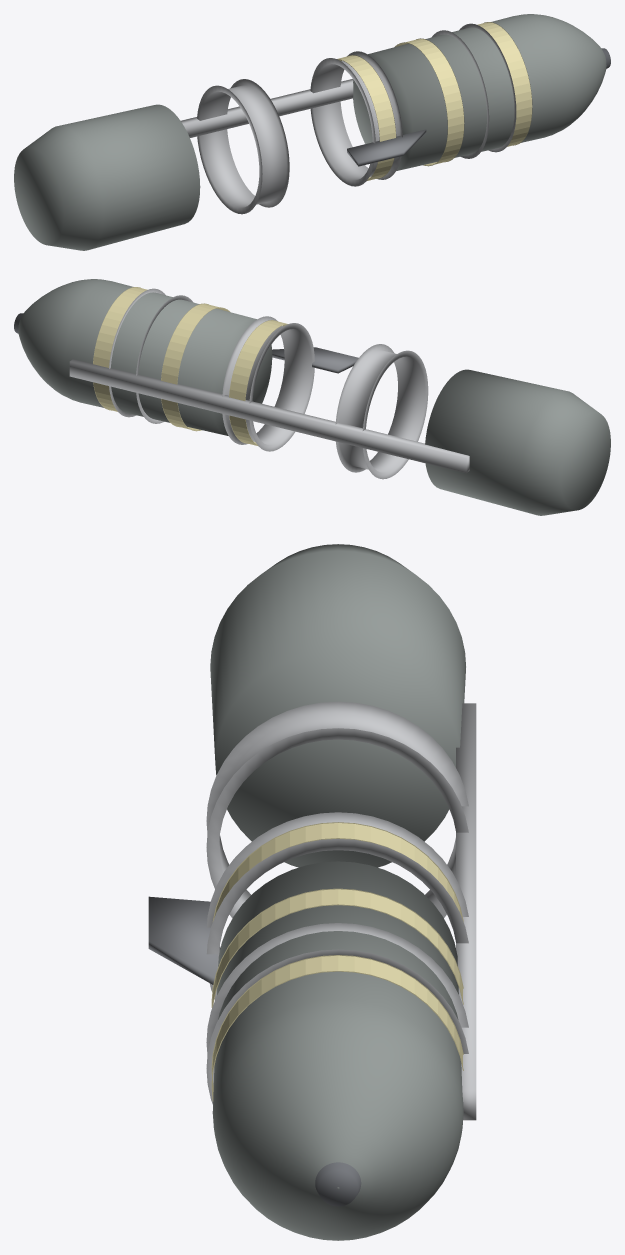
File: FR_SLBM_M51_LOD0.fbx
The picture shows the model from 3 angles, top to bottom: view 1: azimuth 30°, elevation 25°; view 2: azimuth 150°, elevation 25°; view 3: azimuth 270°, elevation 25°; orthographic projection. The views are drawn at different scales.
Parts seen in each view (by area): view 1: WPN_FR_SLBM_M51_LOD0_Tail, WPN_FR_SLBM_M51_LOD0_Body, WPN_FR_SLBM_M51_LOD0_Detail, WPN_FR_SLBM_M51_LOD0_Marking; view 2: WPN_FR_SLBM_M51_LOD0_Detail, WPN_FR_SLBM_M51_LOD0_Tail, WPN_FR_SLBM_M51_LOD0_Body, WPN_FR_SLBM_M51_LOD0_Marking; view 3: WPN_FR_SLBM_M51_LOD0_Body, WPN_FR_SLBM_M51_LOD0_Tail, WPN_FR_SLBM_M51_LOD0_Detail, WPN_FR_SLBM_M51_LOD0_Marking, WPN_FR_SLBM_M51_LOD0_Nose.
Boxes of the visible parts, x1=… form: WPN_FR_SLBM_M51_LOD0_Tail: x1=14, y1=104, x2=200, y2=250; WPN_FR_SLBM_M51_LOD0_Body: x1=353, y1=14, x2=606, y2=170; WPN_FR_SLBM_M51_LOD0_Detail: x1=181, y1=23, x2=516, y2=214; WPN_FR_SLBM_M51_LOD0_Marking: x1=337, y1=22, x2=532, y2=180; WPN_FR_SLBM_M51_LOD0_Detail: x1=69, y1=288, x2=469, y2=479; WPN_FR_SLBM_M51_LOD0_Tail: x1=425, y1=369, x2=610, y2=515; WPN_FR_SLBM_M51_LOD0_Body: x1=18, y1=279, x2=272, y2=435; WPN_FR_SLBM_M51_LOD0_Marking: x1=93, y1=287, x2=287, y2=445; WPN_FR_SLBM_M51_LOD0_Body: x1=212, y1=861, x2=463, y2=1240; WPN_FR_SLBM_M51_LOD0_Tail: x1=210, y1=544, x2=465, y2=867; WPN_FR_SLBM_M51_LOD0_Detail: x1=148, y1=701, x2=476, y2=1120; WPN_FR_SLBM_M51_LOD0_Marking: x1=211, y1=822, x2=463, y2=1101; WPN_FR_SLBM_M51_LOD0_Nose: x1=315, y1=1162, x2=361, y2=1206.
Size of the model in its own units: 12 by 3 by 2.41.
